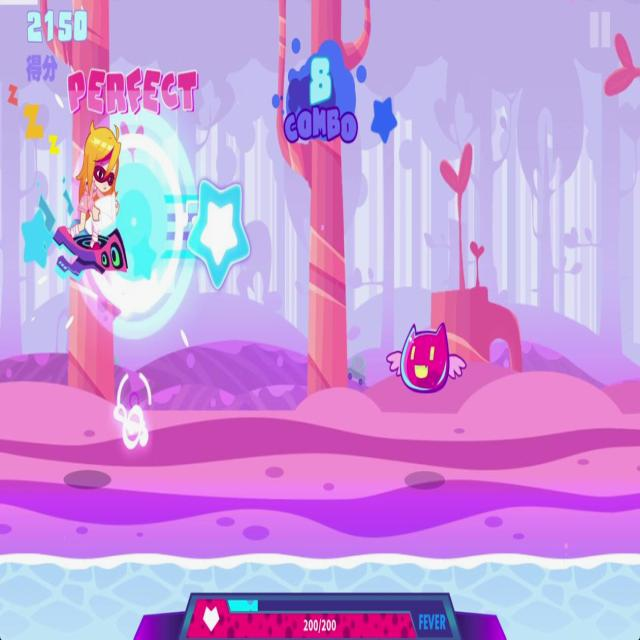hold: (127, 177, 250, 289)
